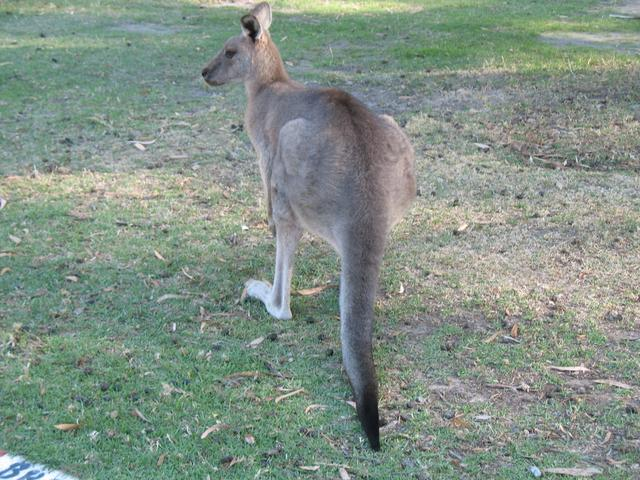kangaroo: (182, 10, 450, 464)
